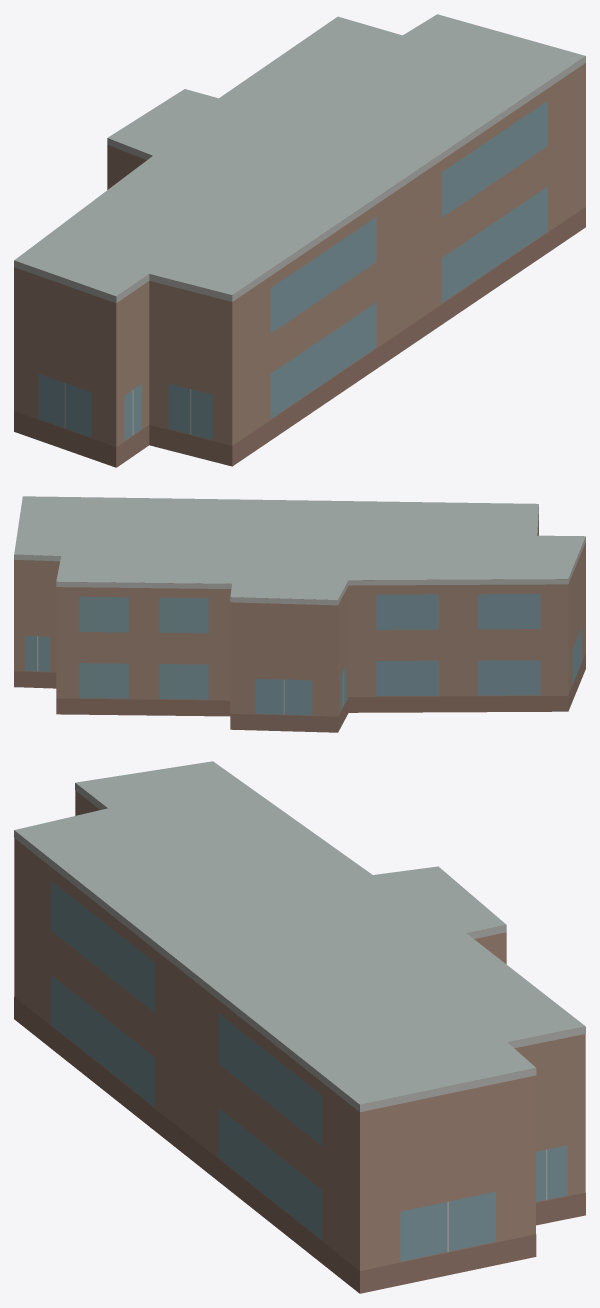
Rendered from survey-upis-32935629.glb.
3 renders of one model, top to bottom at view 1: azimuth 30°, elevation 25°; view 2: azimuth 150°, elevation 25°; view 3: azimuth 270°, elevation 25°, orthographic. The views are drawn at different scales.
Visible parts, largest first — view 1: survey-upis-32935629.tmp; view 2: survey-upis-32935629.tmp; view 3: survey-upis-32935629.tmp.
Part boxes in pixels (x1,y1,x2,y2): survey-upis-32935629.tmp: [14, 14, 585, 467]; survey-upis-32935629.tmp: [14, 496, 585, 732]; survey-upis-32935629.tmp: [14, 761, 585, 1293].
Bounding box in the file's own units: 23.79 × 6.1 × 16.73.
